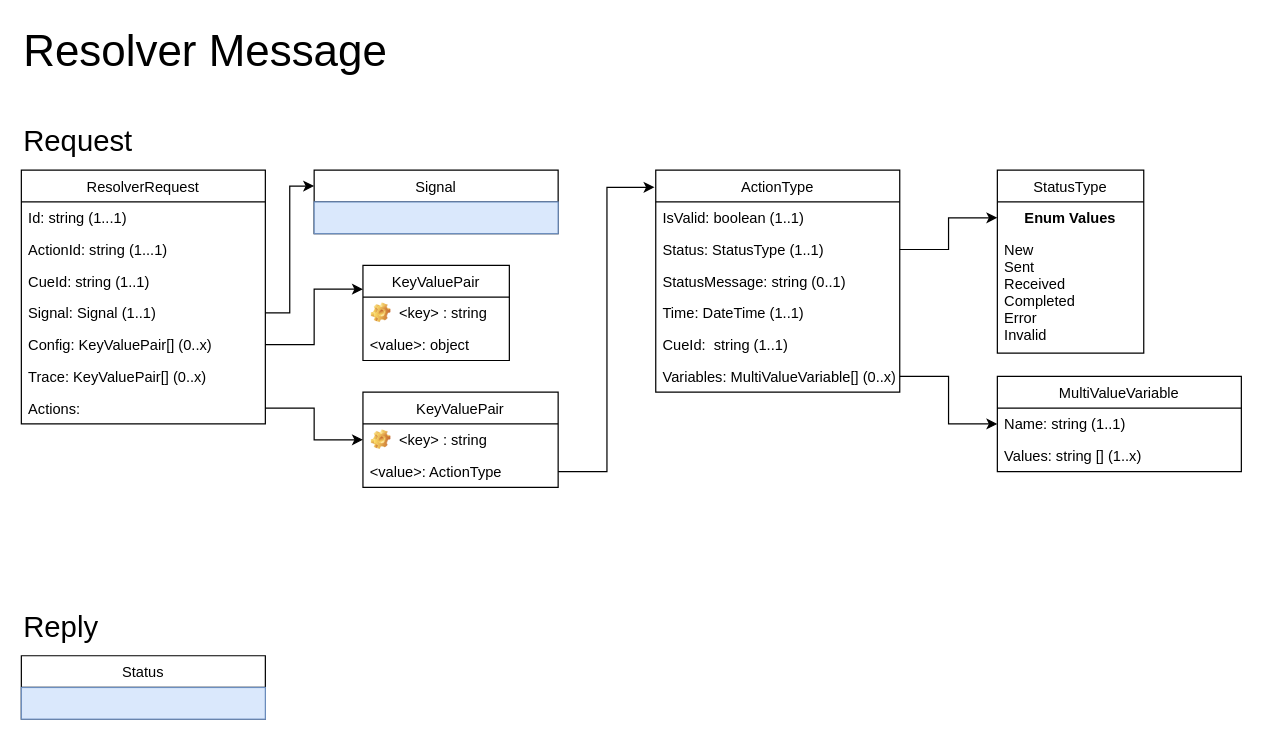
The diagram is 1263 pixels wide and 743 high, and some of its shapes have lost their labels. Each missing label, with the centre of its shape:
See Signal Message Diagram: [435,217]
See Status Message Diagram: [142,702]
